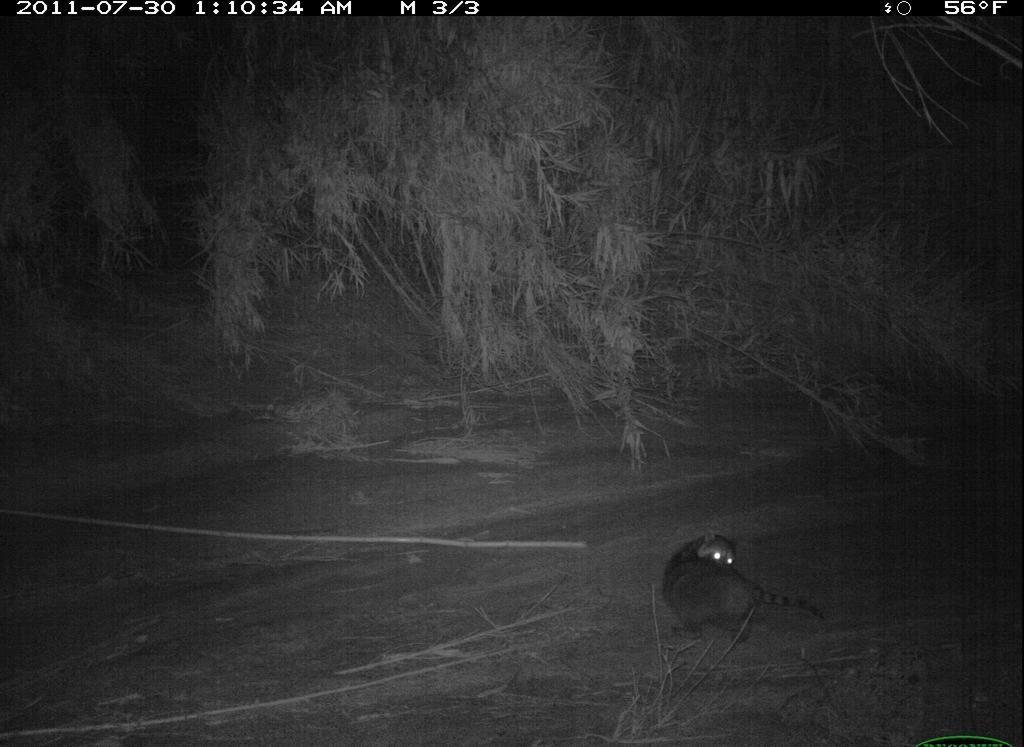raccoon: (635, 523, 845, 656)
